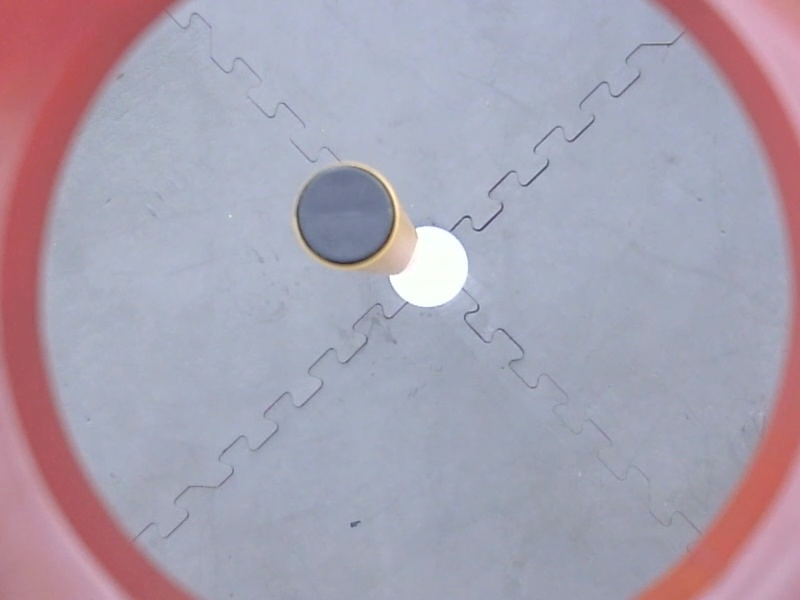tip: (284, 156, 407, 276)
